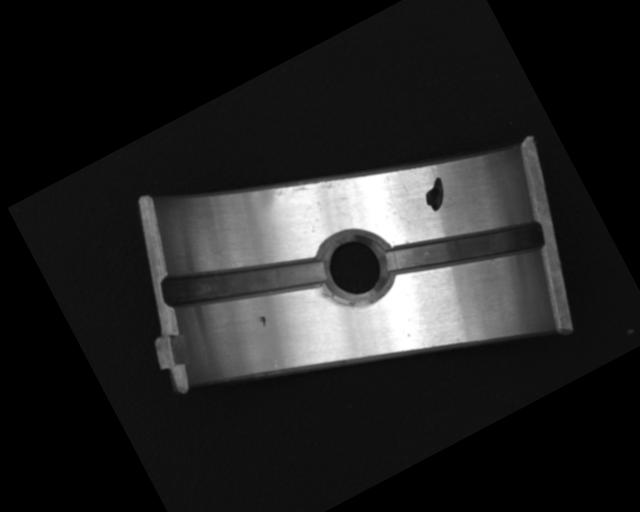blot: (418, 175, 454, 214)
bruise: (257, 313, 269, 328)
gap: (160, 212, 330, 351), (383, 183, 552, 315)
hole: (310, 220, 404, 317)
